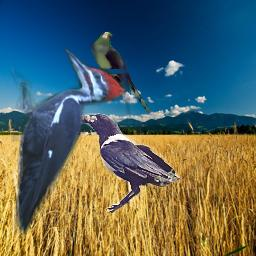Crow: (77, 113, 184, 213)
Cuckoo: (91, 31, 155, 114)
Woodpecker: (11, 42, 125, 241)
